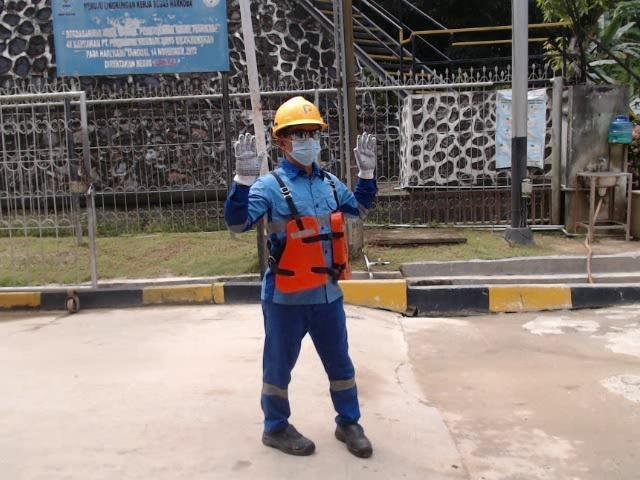vest: (274, 210, 354, 295)
